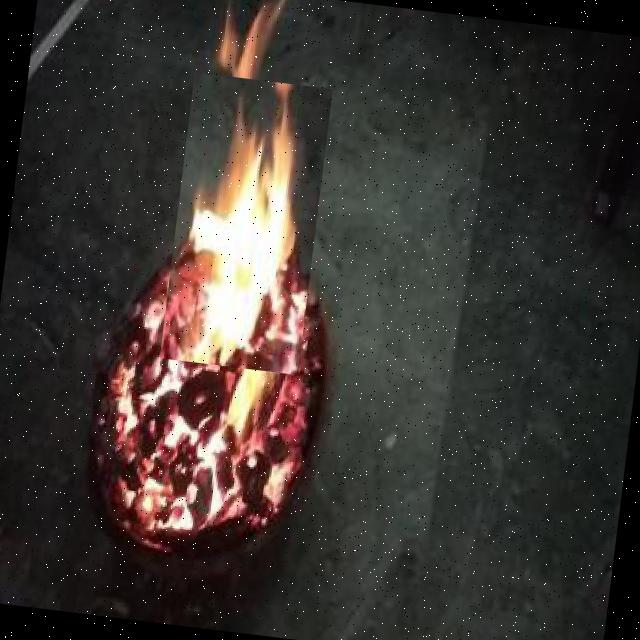fire: (159, 72, 332, 374)
